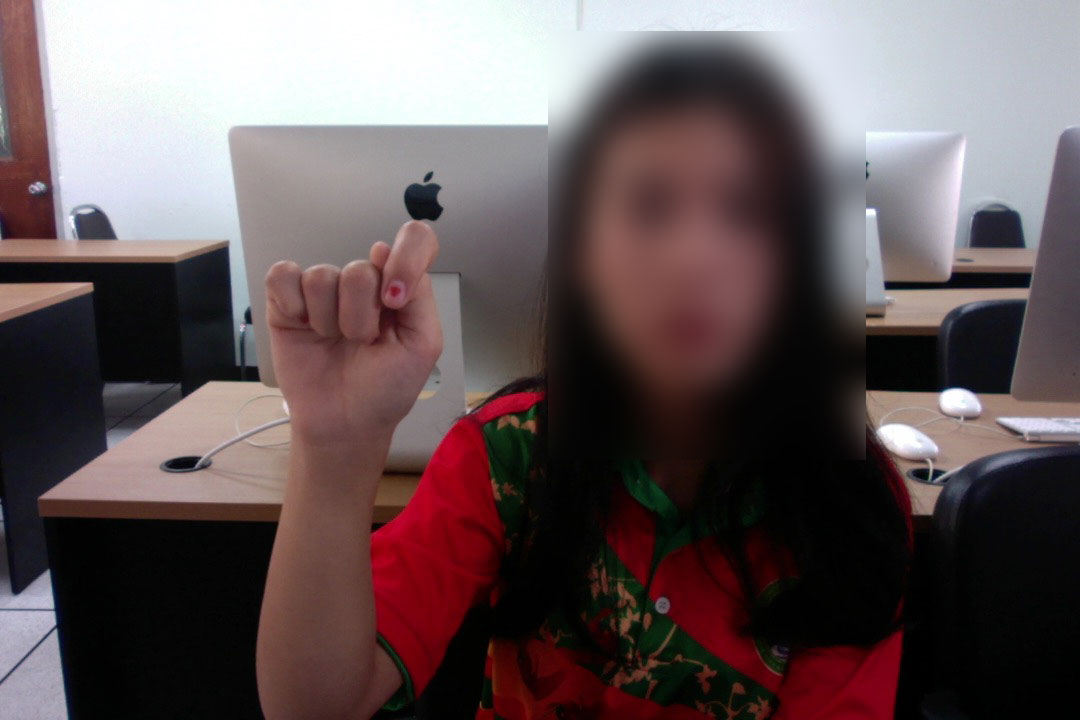tor: (261, 213, 444, 483)
